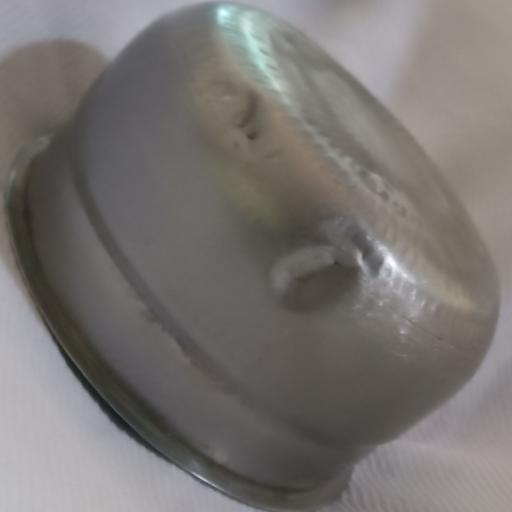vessel: (7, 3, 498, 510)
